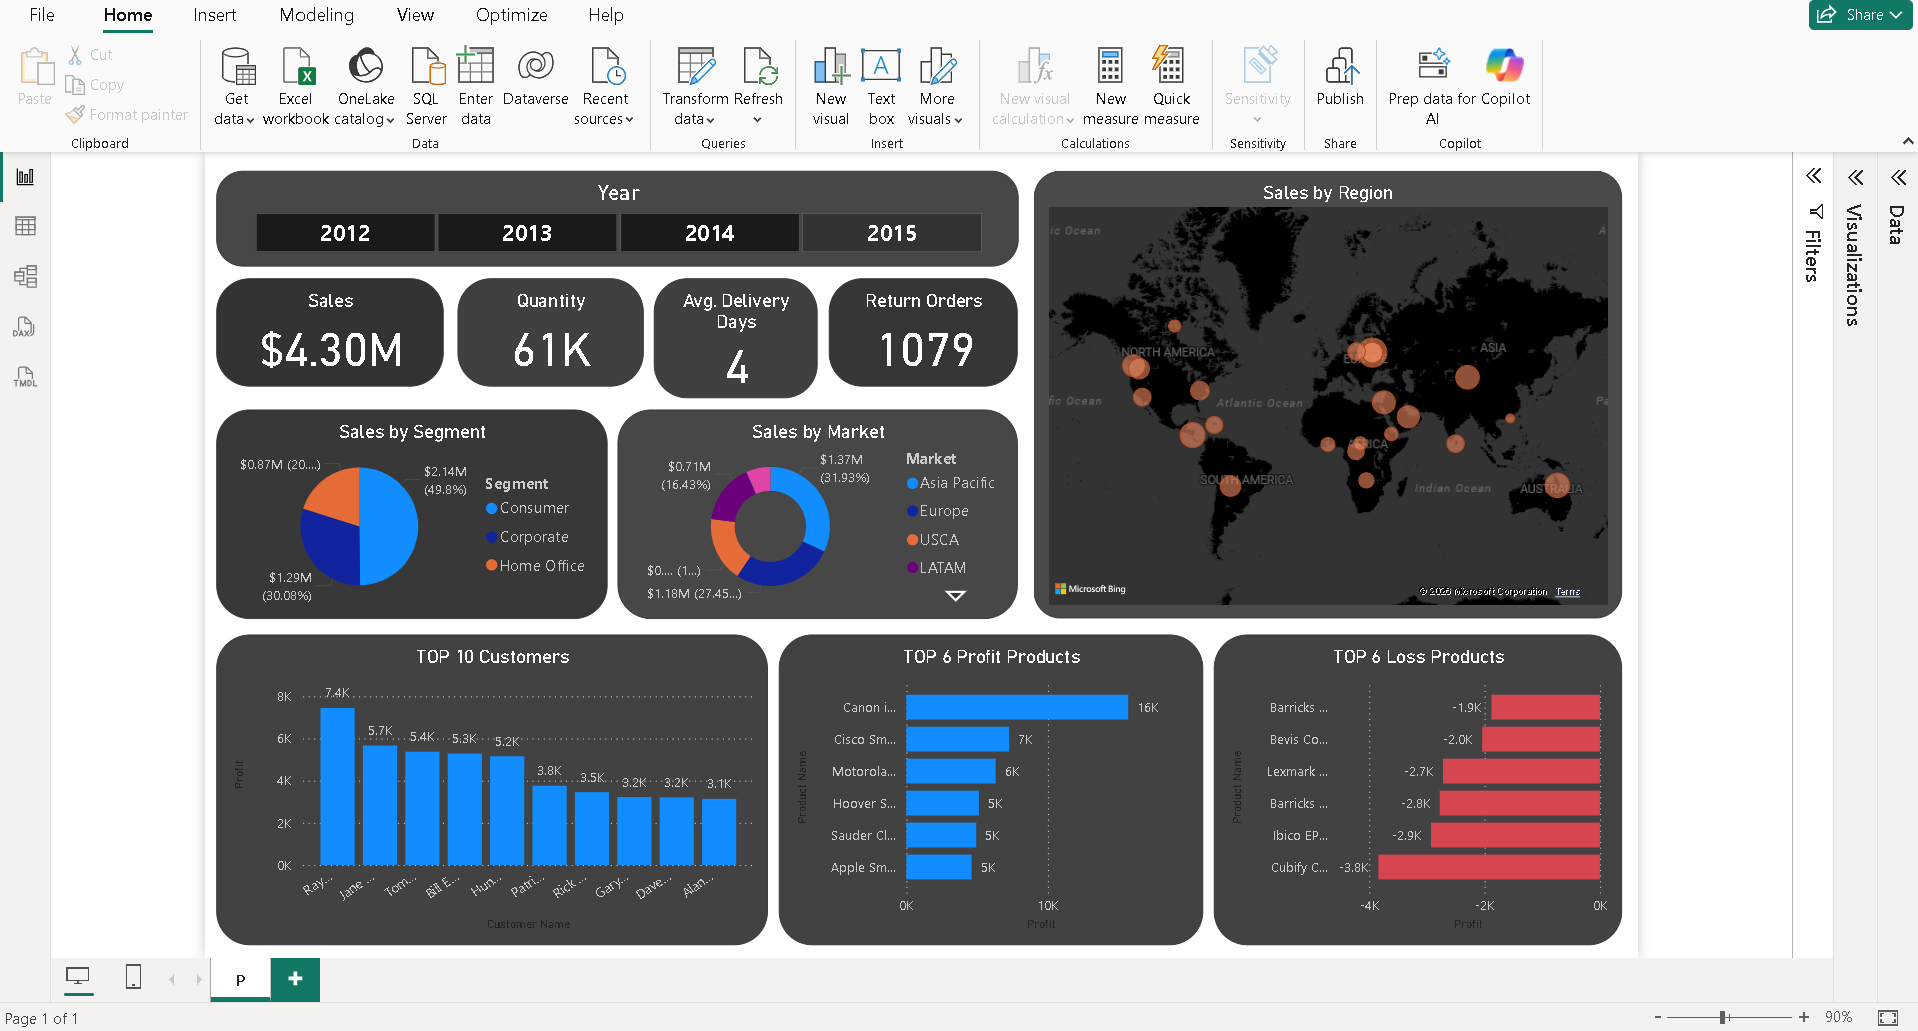

The page's visual inventory and layout, read from the dashboard file:
{"tool":"powerbi","page":{"name":"P","canvas":[1280,720],"ordinal":0},"visuals":[{"type":"card","title":"Sales","fields":{"Values":["Sum(Orders.Sales)"]},"box":[9.9,112.7,202.8,97.2],"z":0},{"type":"card","title":"Quantity","fields":{"Values":["Sum(Orders.Quantity)"]},"box":[225.4,112.7,166.2,97.2],"z":1000},{"type":"card","title":"Avg. Delivery Days","fields":{"Values":["Sum(Orders.Delivery Days)"]},"box":[401.4,112.7,146.5,107],"z":2000},{"type":"slicer","title":"Year","fields":{"Values":["Orders.Year"]},"box":[9.9,16.9,716.9,85.9],"z":3000},{"type":"card","title":"Return Orders","fields":{"Values":["Min(Returns.Return Orders)"]},"box":[557.7,112.7,169,97.2],"z":4000},{"type":"map","fields":{"Category":["Orders.Region"],"Size":["Sum(Orders.Sales)"]},"box":[740.8,16.9,525.4,400],"z":5000},{"type":"barChart","title":"TOP 6 Profit  Products","fields":{"Category":["Orders.Product Name"],"Y":["Sum(Orders.Profit)"]},"box":[512.7,431,378.9,277.5],"z":6000},{"type":"barChart","title":"TOP 6 Loss  Products","fields":{"Category":["Orders.Product Name"],"Y":["Sum(Orders.Profit)"]},"box":[901.4,431,364.8,277.5],"z":7000},{"type":"pieChart","fields":{"Category":["Orders.Segment"],"Y":["Sum(Orders.Sales)"]},"box":[9.9,229.6,349.3,187.3],"z":8000},{"type":"donutChart","fields":{"Y":["Sum(Orders.Sales)"],"Category":["Orders.Market"]},"box":[369,229.6,357.7,187.3],"z":9000},{"type":"columnChart","title":"TOP 10 Customers","fields":{"Y":["Sum(Orders.Profit)"],"Category":["Orders.Customer Name"]},"box":[9.9,431,493,277.5],"z":10000}]}

Visuals, with their boxes on the page's 1280x720 design canvas (x1, y1, x2, y2). These are canvas units, not pixel positions in the 1918x1031 screenshot, which may show the page scaled, cropped or inside an application window:
"Sales" card: [10,113,213,210]
"Quantity" card: [225,113,392,210]
"Avg. Delivery Days" card: [401,113,548,220]
"Year" slicer: [10,17,727,103]
"Return Orders" card: [558,113,727,210]
map - Orders.Region x Sum(Orders.Sales): [741,17,1266,417]
"TOP 6 Profit  Products" barChart: [513,431,892,708]
"TOP 6 Loss  Products" barChart: [901,431,1266,708]
pieChart - Orders.Segment x Sum(Orders.Sales): [10,230,359,417]
donutChart - Sum(Orders.Sales) x Orders.Market: [369,230,727,417]
"TOP 10 Customers" columnChart: [10,431,503,708]
